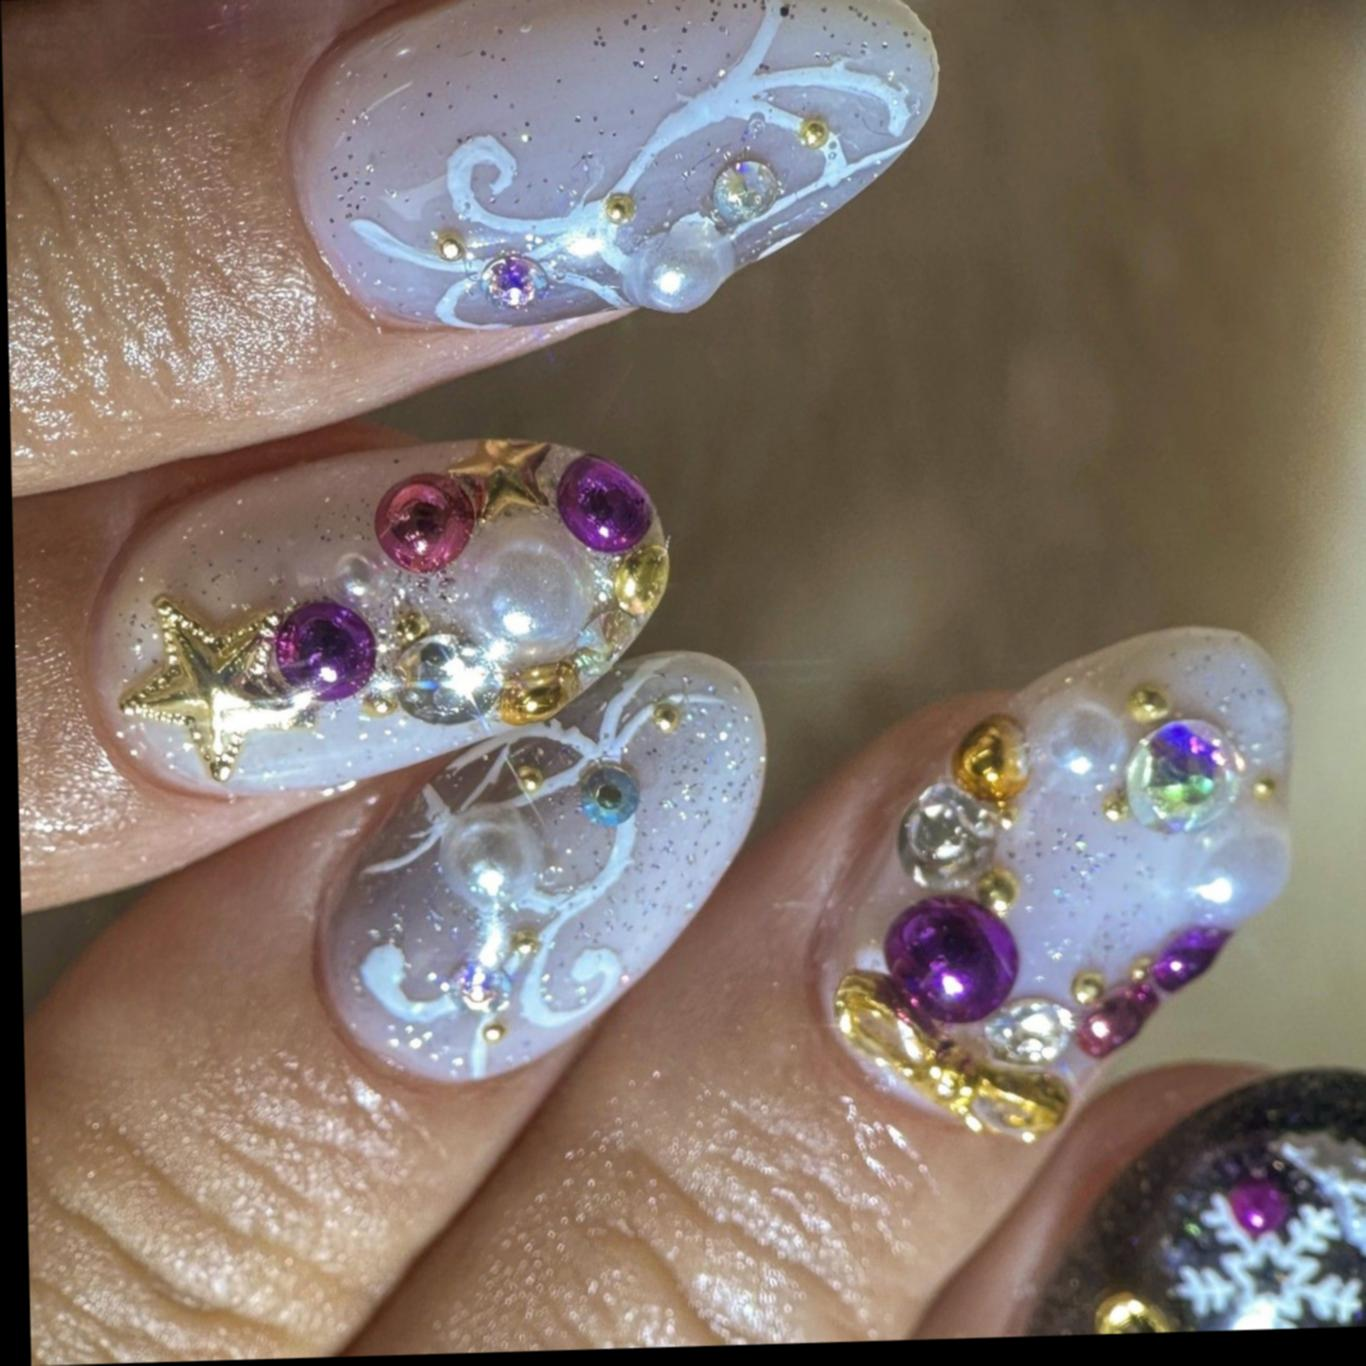nail: (822, 628, 1288, 1141), (74, 429, 675, 811), (283, 0, 946, 340), (310, 644, 777, 1091), (1026, 1071, 1366, 1336)
